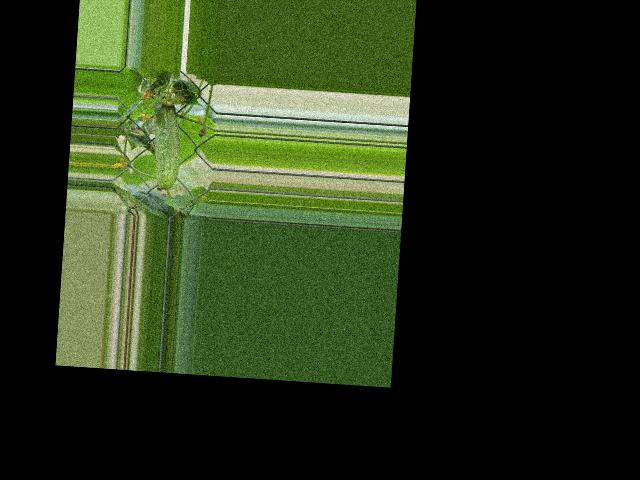cucumber: (149, 96, 183, 196)
